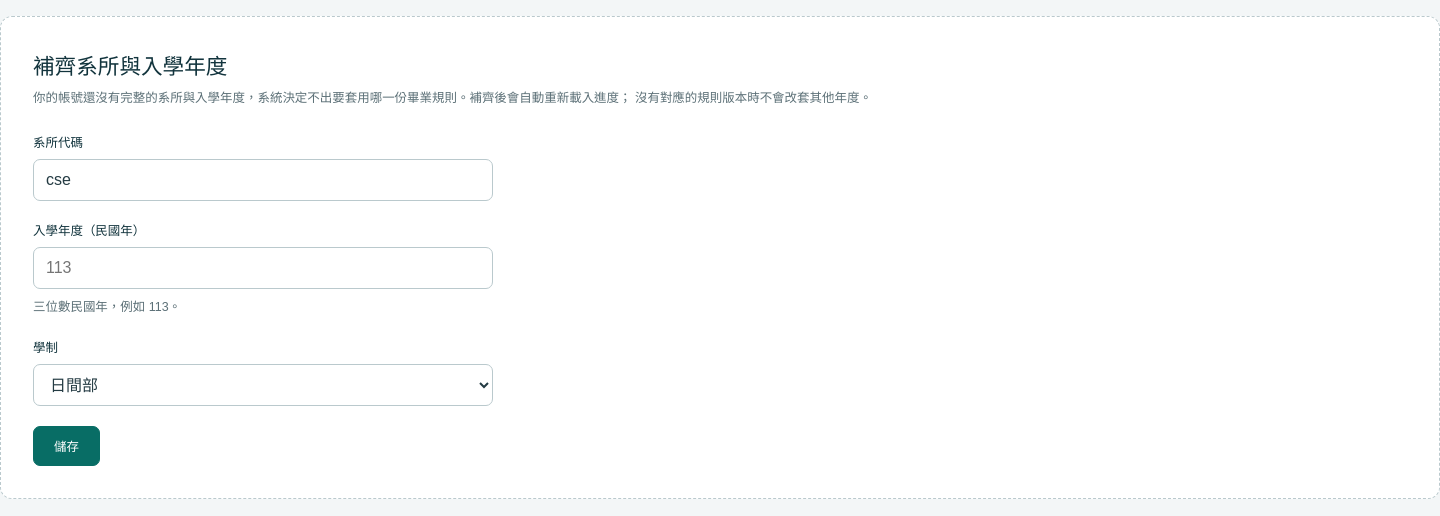
ProfileForm（補齊系所／入學年度） › 入學年度超出 100–130 也擋下來
Type "250" into the field labelled "入學年度（民國年）" at [263, 268], box [33,247,493,289]
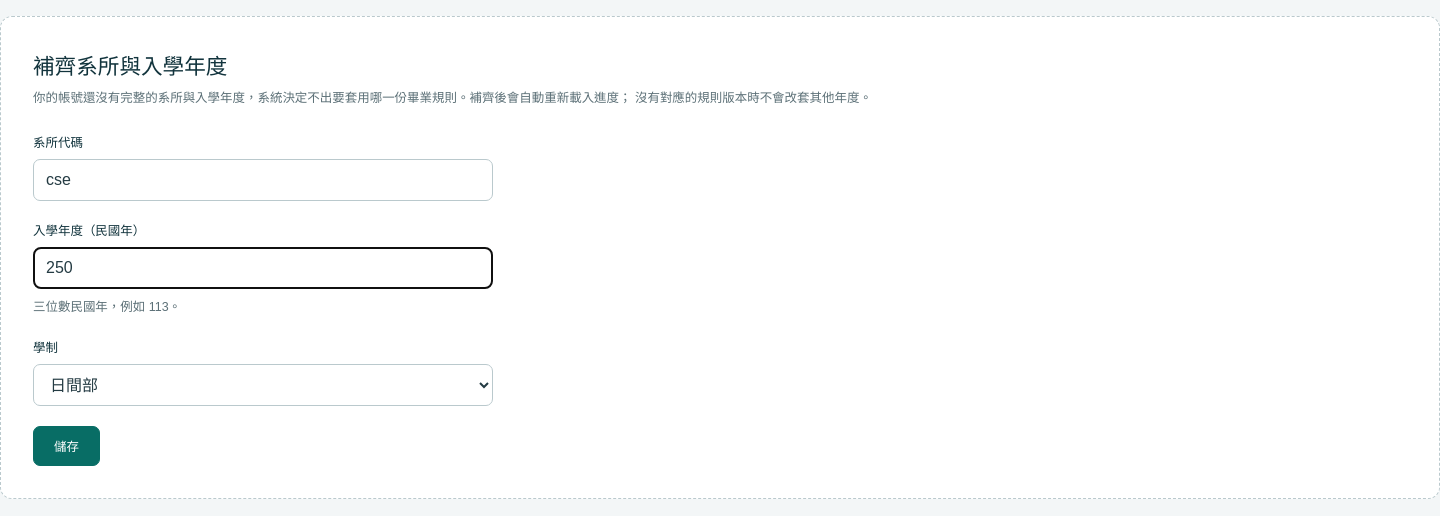
Click the button "儲存" at [66, 446], box [33,426,100,466]
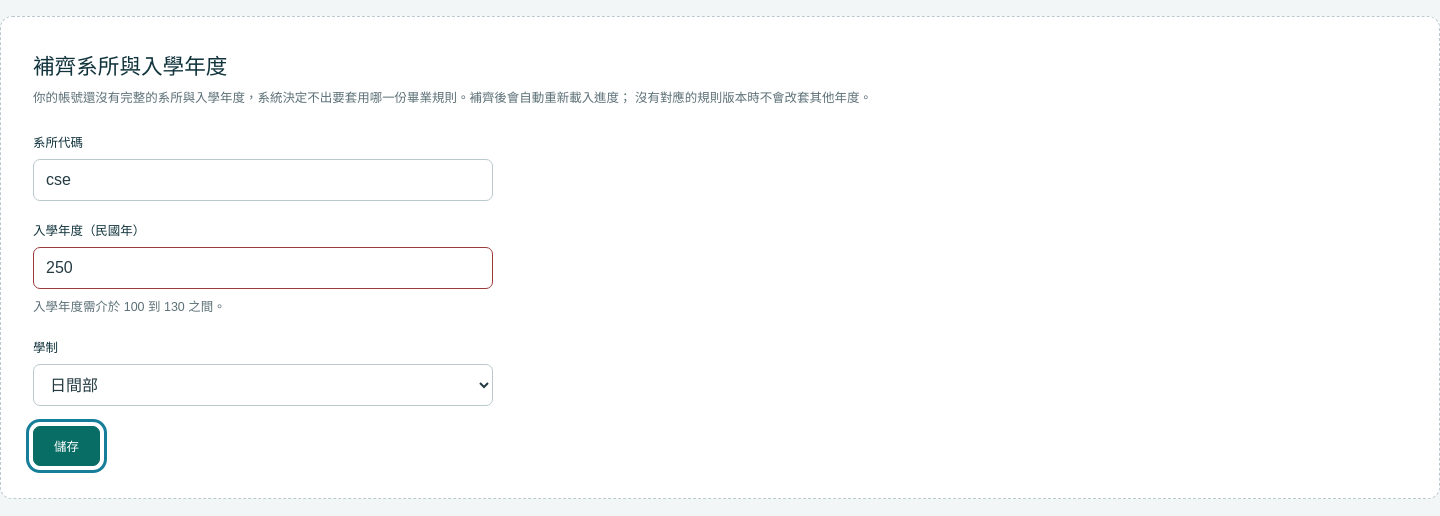
Result: the text "入學年度需介於 100 到 130 之間。" is shown at [33,300,226,314]
